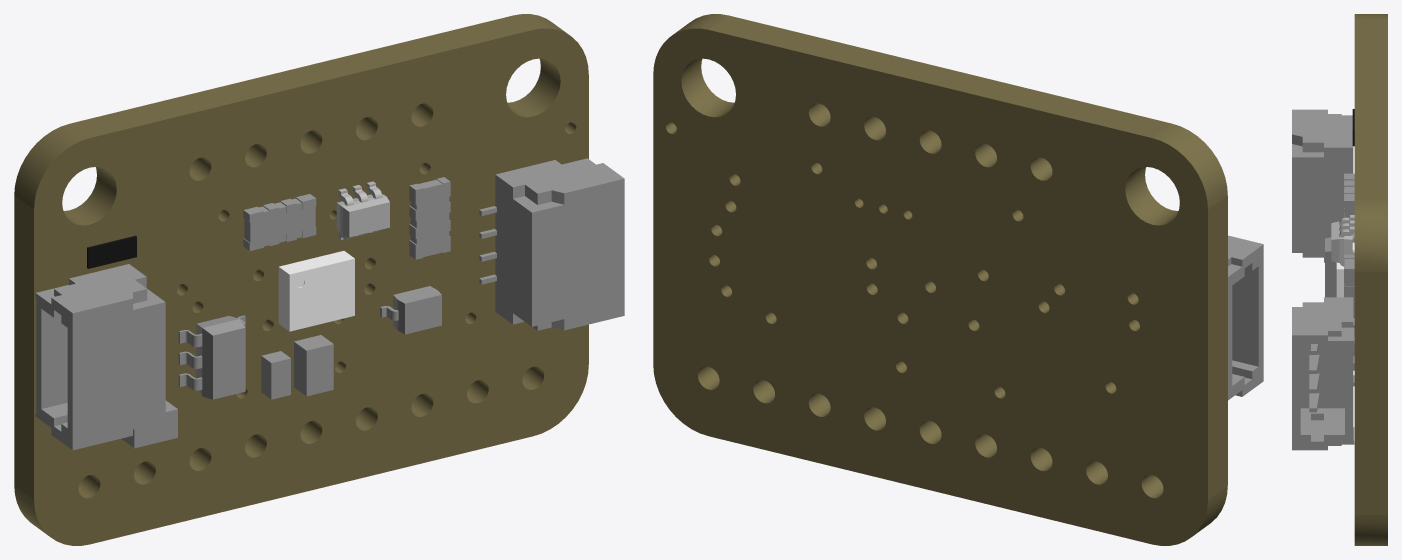
File: 4502 6DoF IMU.glb
The picture shows the model from 3 angles, left to right: view 1: azimuth 30°, elevation 25°; view 2: azimuth 150°, elevation 25°; view 3: azimuth 270°, elevation 25°; orthographic projection. The views are drawn at different scales.
Parts seen in each view (by area): view 1: Board, JST_SH4 (×2), RESPACK_4X0603 (×2), PCB Component, SOT23-5, 0805-NO (×2), SOT363, SOD-323, 0603-NO, CHIPLED_0603_NOOUTLINE; view 2: Board, JST_SH4; view 3: Board, JST_SH4 (×2), RESPACK_4X0603 (×2), SOT363, SOT23-5, PCB Component.
Part boxes in pixels (left/top/right/bottom): Board: left=14, top=14, right=588, bottom=545; JST_SH4 (×2): left=35, top=158, right=624, bottom=450; RESPACK_4X0603 (×2): left=243, top=177, right=450, bottom=259; PCB Component: left=278, top=251, right=354, bottom=331; SOT23-5: left=178, top=315, right=245, bottom=399; 0805-NO (×2): left=122, top=335, right=333, bottom=448; SOT363: left=336, top=181, right=389, bottom=239; SOD-323: left=380, top=286, right=441, bottom=334; 0603-NO: left=261, top=351, right=290, bottom=399; CHIPLED_0603_NOOUTLINE: left=87, top=235, right=136, bottom=268; Board: left=653, top=14, right=1227, bottom=545; JST_SH4: left=1228, top=235, right=1263, bottom=400; Board: left=1354, top=14, right=1387, bottom=545; JST_SH4 (×2): left=1292, top=109, right=1354, bottom=450; RESPACK_4X0603 (×2): left=1344, top=173, right=1354, bottom=317; SOT363: left=1331, top=215, right=1354, bottom=266; SOT23-5: left=1325, top=235, right=1354, bottom=297; PCB Component: left=1336, top=242, right=1354, bottom=297.
Size of the model in its own units: 25.4 by 17.78 by 4.53.
